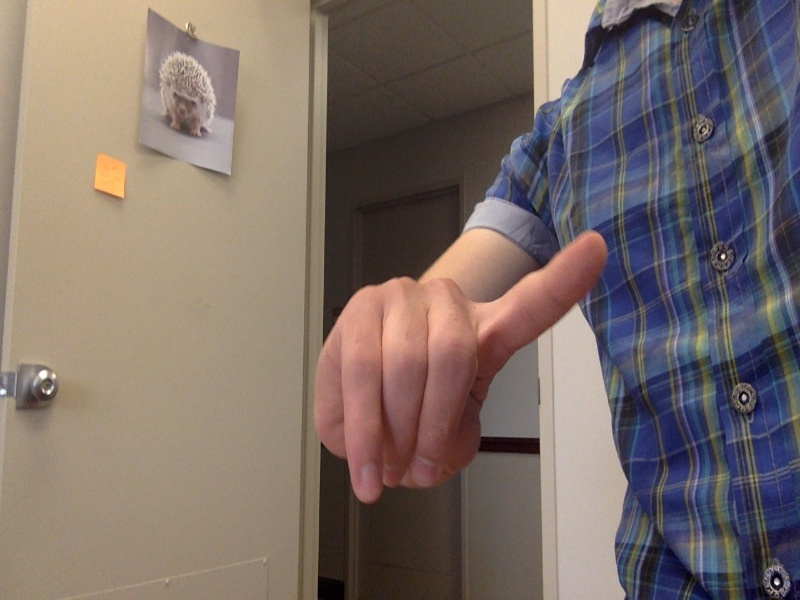1-hand: (313, 228, 612, 499)
